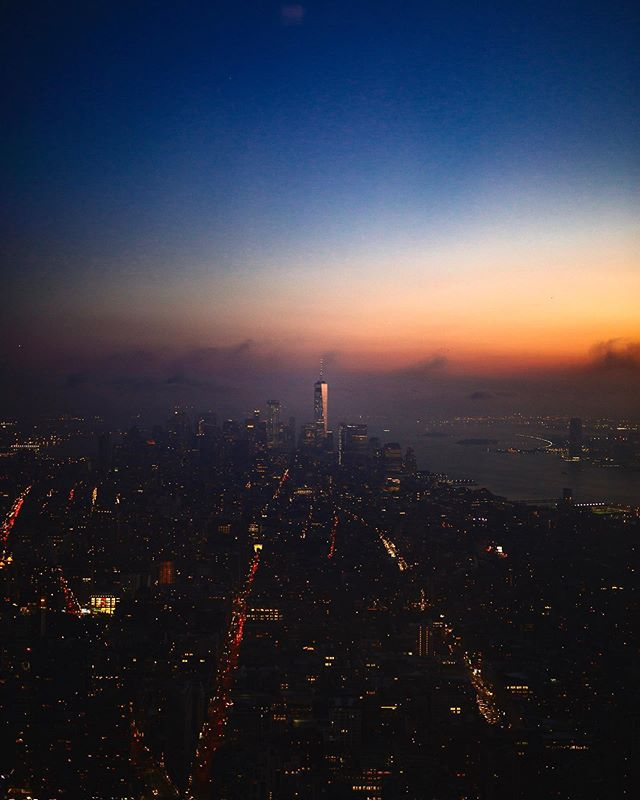building: (309, 378, 340, 447), (260, 388, 291, 457), (186, 407, 217, 476), (217, 418, 248, 487), (146, 408, 177, 477), (566, 408, 588, 468)
sky: (1, 1, 640, 320)
